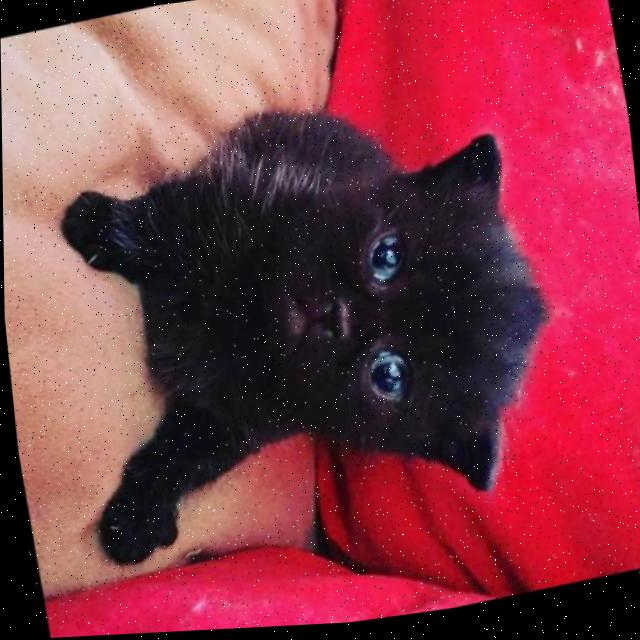Cats: (49, 35, 590, 603)
